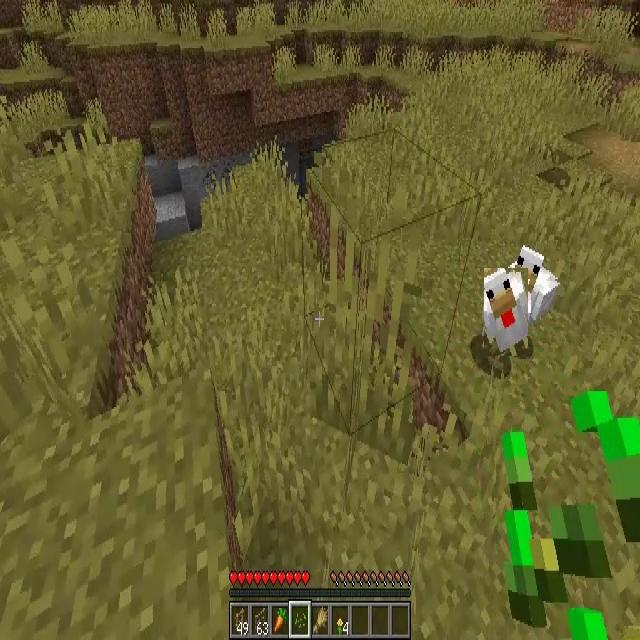duck: (484, 268, 528, 356), (517, 248, 560, 297)
